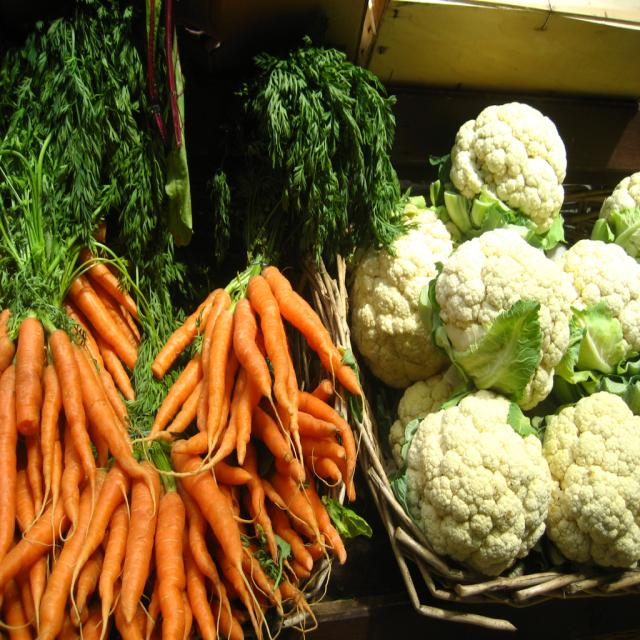Carrot: (150, 435, 195, 639)
